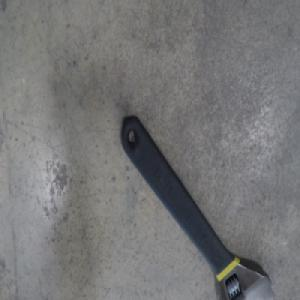AdjustableWrench: (120, 115, 275, 300)
